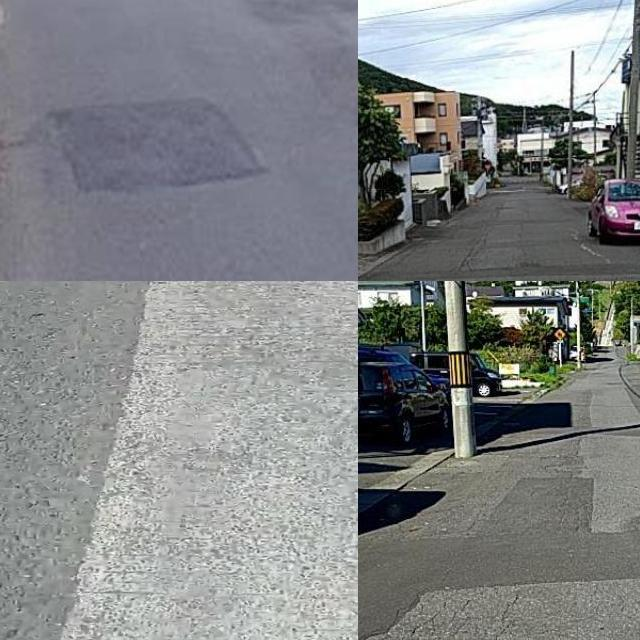Sambungan: (46, 281, 358, 640), (358, 473, 640, 640), (50, 98, 274, 205)
